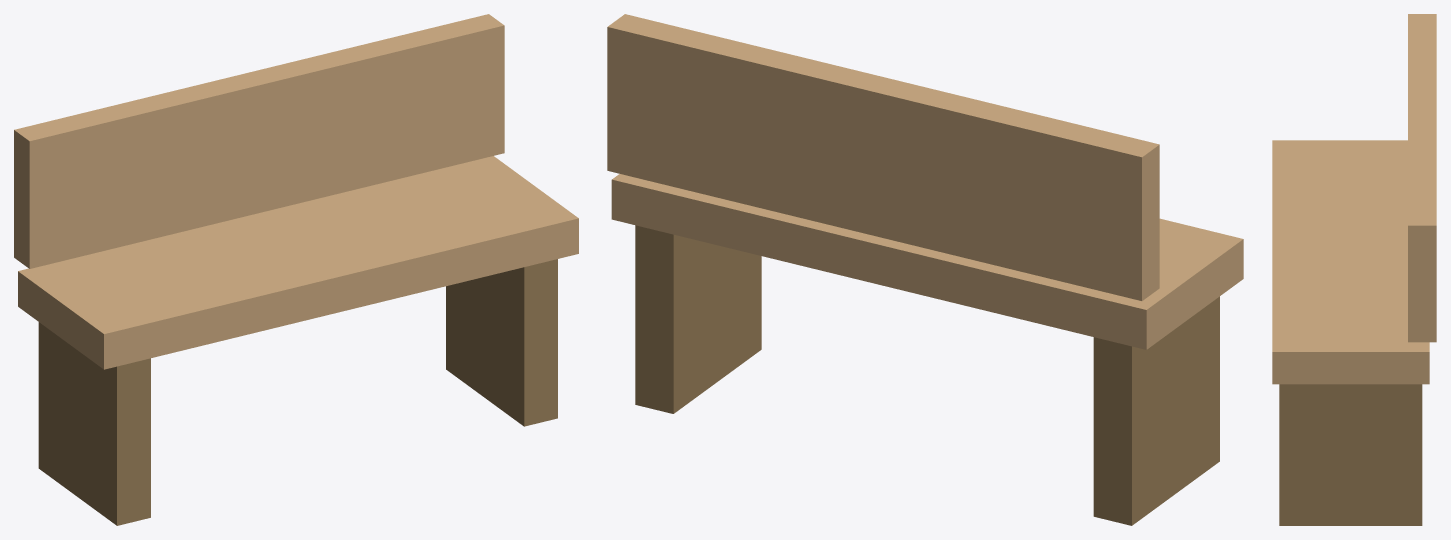
Rendered from bangku.glb.
3 renders of one model, left to right at view 1: azimuth 30°, elevation 25°; view 2: azimuth 150°, elevation 25°; view 3: azimuth 270°, elevation 25°, orthographic. The views are drawn at different scales.
Parts seen in each view (by area): view 1: bangku; view 2: bangku; view 3: bangku.
Boxes of the visible parts, box(x1,y1,x2,y2) form: bangku: box(14, 14, 578, 525); bangku: box(607, 14, 1243, 525); bangku: box(1272, 14, 1436, 525).
Size of the model in its own units: 0.7 by 0.475 by 0.23.
